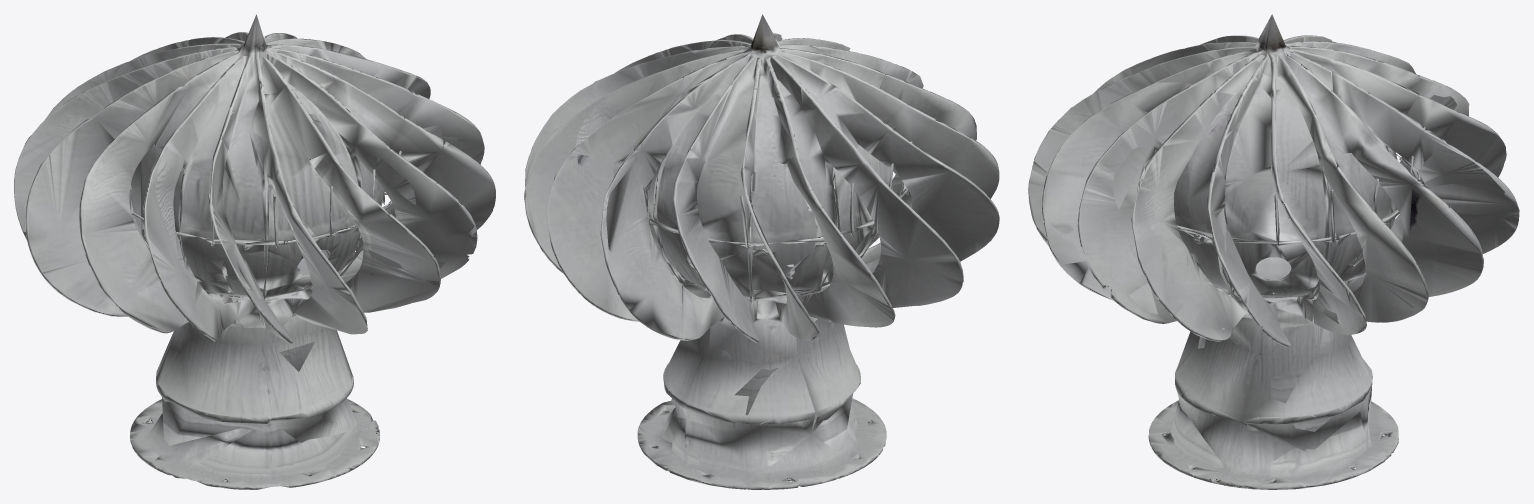
Rendered from turbine-vent.glb.
3 renders of one model, left to right at view 1: azimuth 30°, elevation 25°; view 2: azimuth 150°, elevation 25°; view 3: azimuth 270°, elevation 25°, orthographic.
Visible parts, largest first — view 1: Mesh_0; view 2: Mesh_0; view 3: Mesh_0.
Part boxes in pixels (x1,y1,x2,y2): Mesh_0: (14,14,495,489); Mesh_0: (524,14,999,489); Mesh_0: (1028,14,1519,489).
Bounding box in the file's own units: 1.05 × 1 × 1.05.
Materials: 1 (1 with a texture image).
